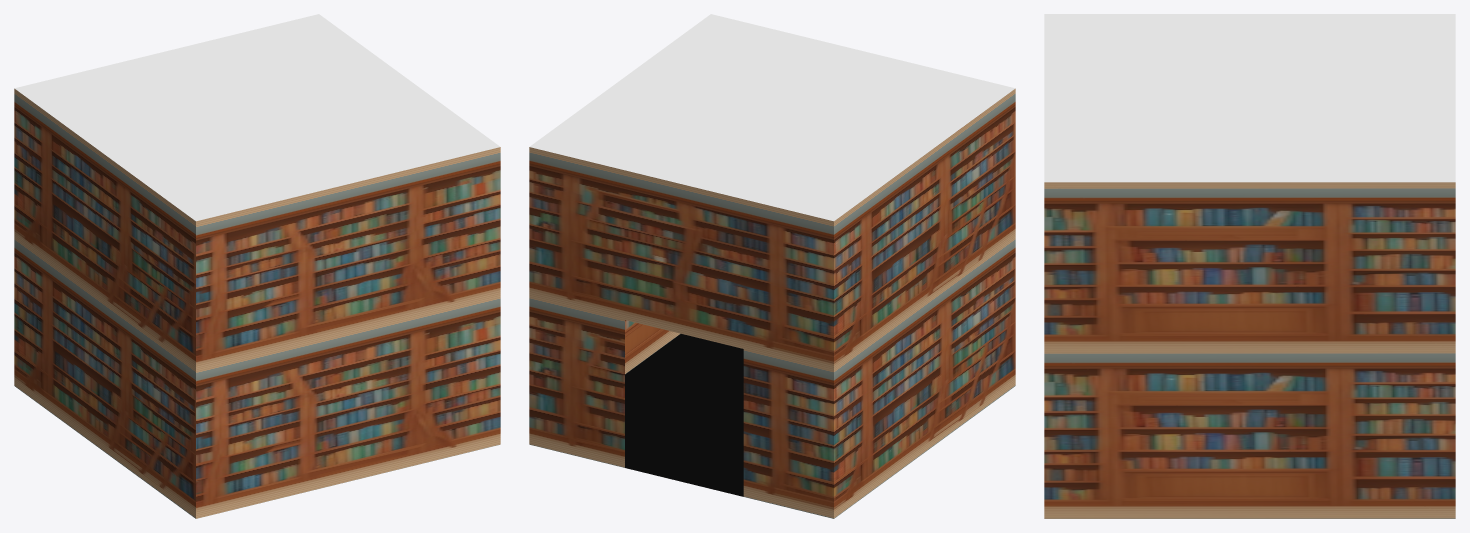
The model's file is capsula.glb.
The picture shows the model from 3 angles, left to right: view 1: azimuth 30°, elevation 25°; view 2: azimuth 150°, elevation 25°; view 3: azimuth 270°, elevation 25°; orthographic projection. The views are drawn at different scales.
Visible parts, largest first — view 1: Cube; view 2: Cube; view 3: Cube.
Boxes of the visible parts, <box> form: Cube: <box>14,14,500,518</box>; Cube: <box>529,14,1015,518</box>; Cube: <box>1044,14,1455,518</box>.
Size of what is drawn, in the model's own units: 59.53 by 55.55 by 61.48.
Materials: 3 (1 with a texture image).
